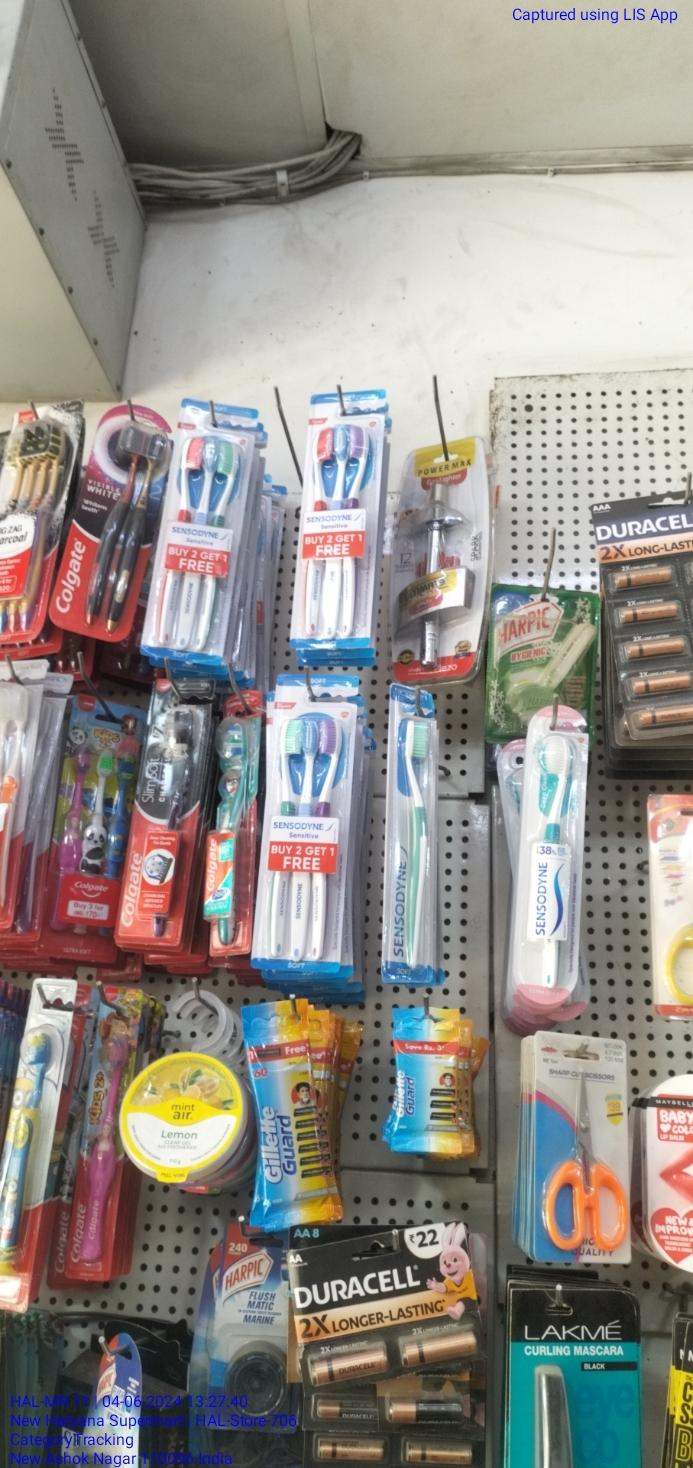soap: (128, 672, 200, 951)
